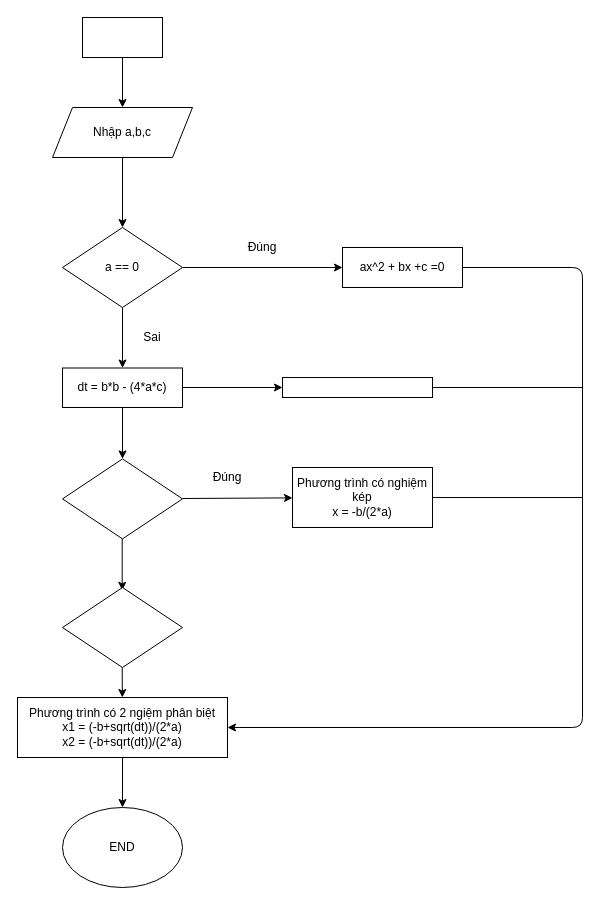
The diagram is 608 pixels wide and 905 high, and some of its shapes have lost their labels. Here are the shapes that lost their labels. From the top down, the centre of each, then its label:
At [122,37]: "BEGIN".
At [357,387]: "Phương trình vô nghiệm".
At [122,498]: "dt < 0".
At [122,627]: "dt = 0".
